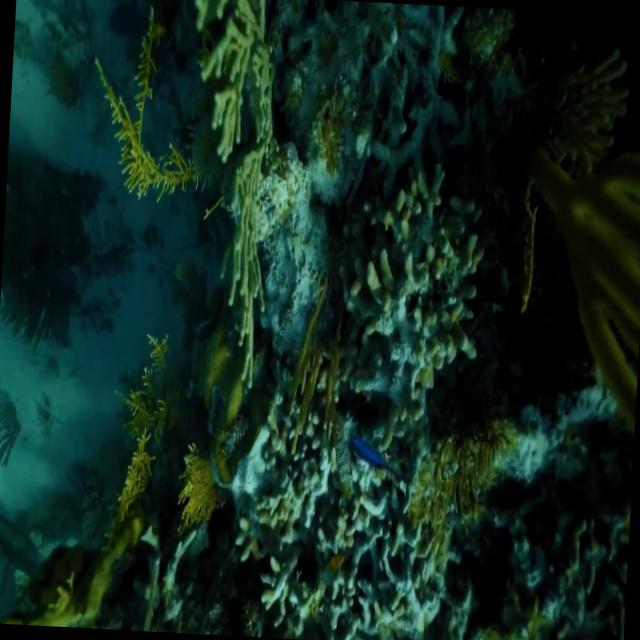fish: (346, 432, 406, 494)
